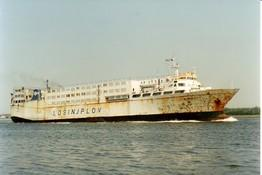youlun: (6, 57, 243, 129)
